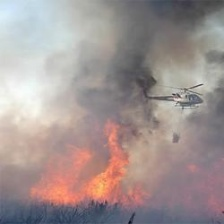fire: (27, 139, 139, 212)
smoke: (60, 1, 197, 119)
